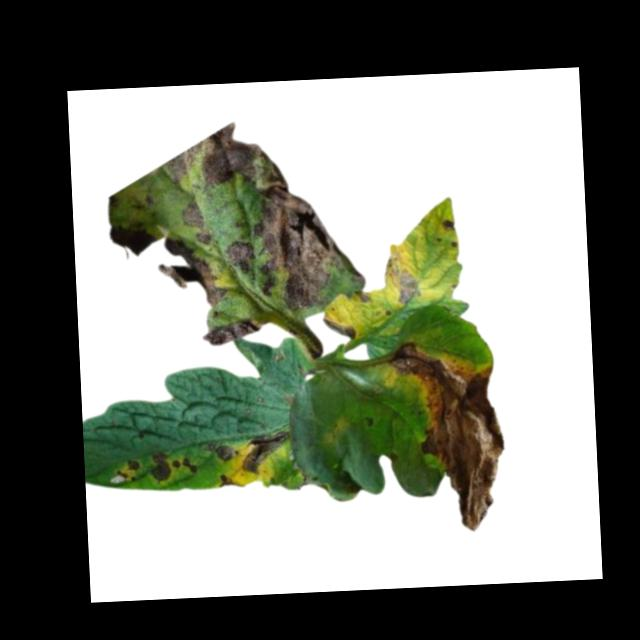Early_blight: (389, 336, 509, 536), (253, 187, 366, 316), (167, 120, 286, 195), (154, 237, 225, 311), (239, 429, 289, 475), (382, 256, 423, 309), (104, 227, 155, 263), (200, 317, 262, 346), (225, 240, 256, 281), (170, 200, 205, 234), (322, 315, 356, 341), (110, 459, 139, 486), (147, 452, 170, 486), (204, 441, 232, 465), (169, 457, 196, 477), (216, 473, 244, 489), (354, 289, 371, 305), (439, 218, 456, 233)
